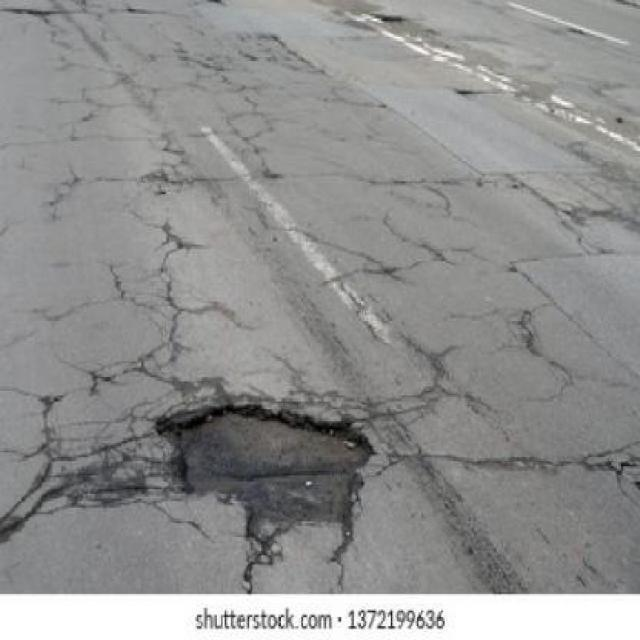pothole: (158, 402, 375, 533)
